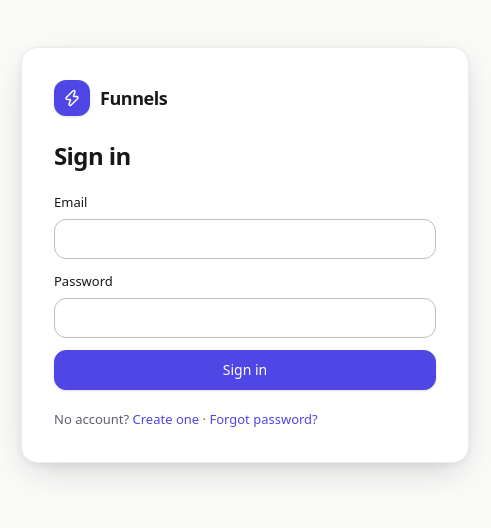
it: login form validation › blocks submission and shows accessible field errors, then shows server errors
This screenshot has width=491, height=528.
Click the button "Sign in": (245, 370) [54,350,436,390]
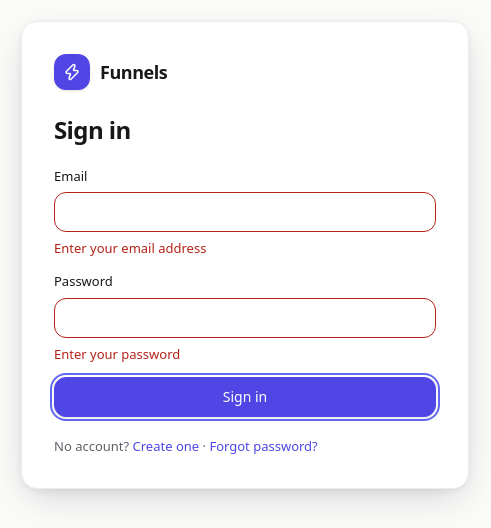
Expected: the text "Enter your email address" is shown, [54,240,206,258]
In the field labelled "Email": (245, 212) [54,192,436,232], type "a@example.com"
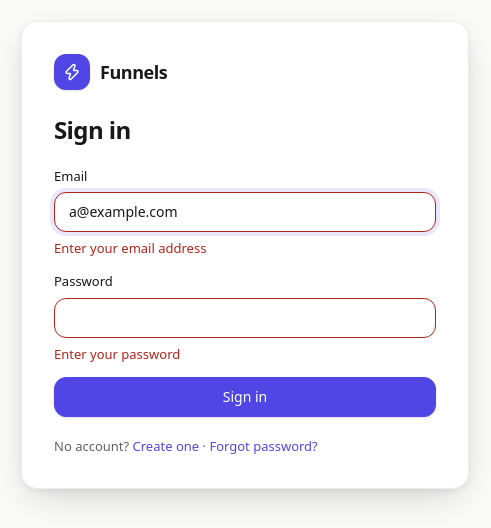
In the password field labelled "Password": (245, 318) [54,298,436,338], type "wrong-password"
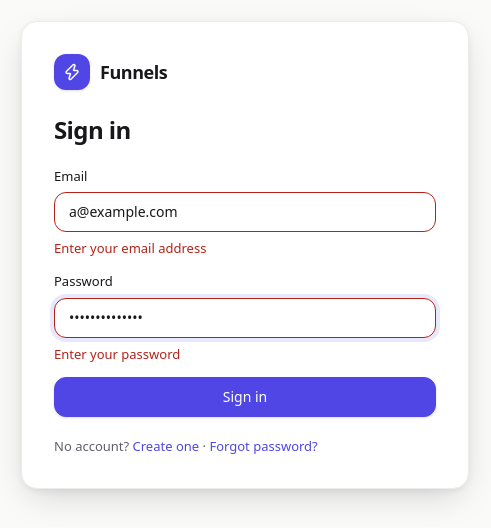
Click the button "Sign in": (245, 397) [54,377,436,417]
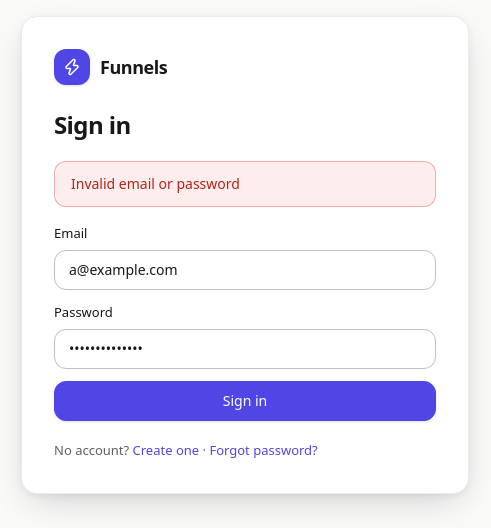
Expected: the text "Invalid email or password" is shown, [54,162,436,208]
